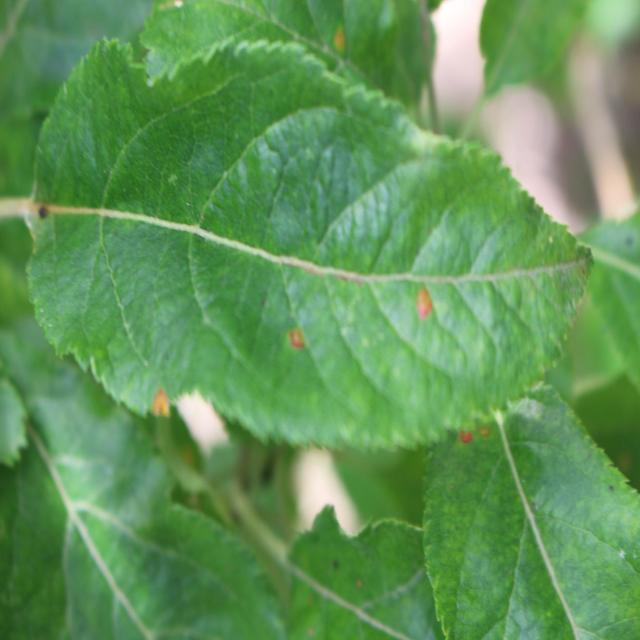Rust: (128, 369, 194, 442), (404, 280, 452, 332), (274, 319, 314, 356)
